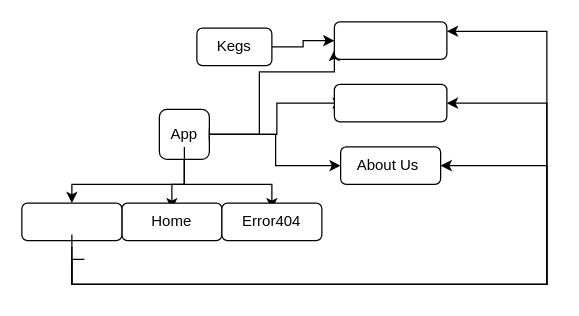
The diagram is 579 pixels wide and 316 high, and some of its shapes have lost their labels. The centre of each missing label's shape, as x and y in pixels:
Header: the point at 71,221
KegAdd: the point at 390,102
ViewKegs: the point at 390,40
